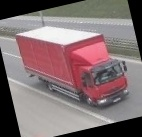truck: (15, 12, 130, 123)
